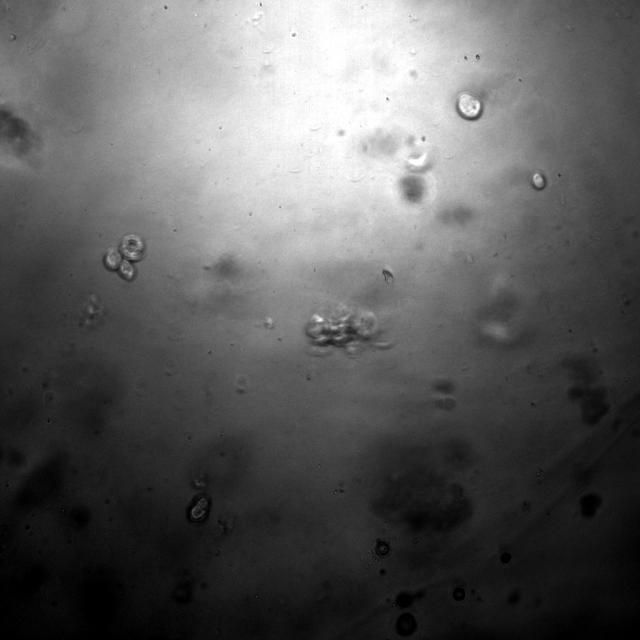organoid: (372, 473, 471, 531), (306, 304, 377, 348), (103, 235, 145, 281), (568, 383, 609, 425), (456, 92, 483, 120), (186, 492, 210, 522), (579, 493, 601, 518), (396, 613, 416, 636), (531, 172, 546, 190), (375, 539, 390, 557)
